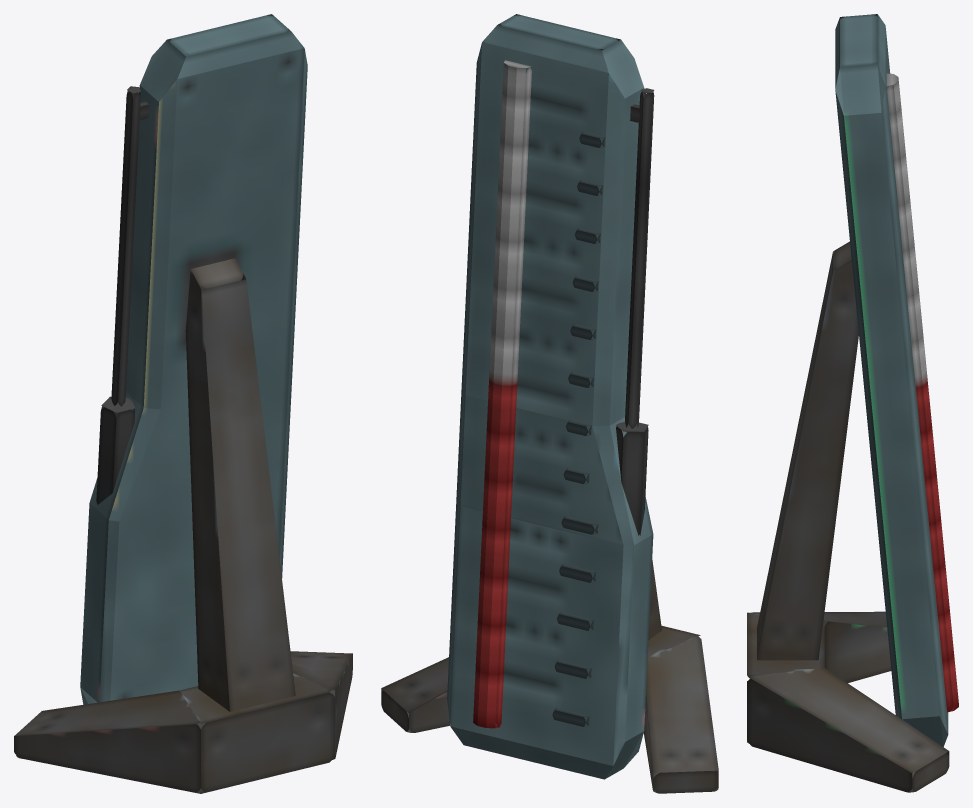
Rendered from thermometer_merc_1.obj.
The picture shows the model from 3 angles, left to right: view 1: azimuth 30°, elevation 25°; view 2: azimuth 150°, elevation 25°; view 3: azimuth 270°, elevation 25°; orthographic projection. The views are drawn at different scales.
Parts seen in each view (by area): view 1: beveled_cuboid; view 2: beveled_cuboid; view 3: beveled_cuboid.
Part boxes in pixels (<box>): beveled_cuboid: <box>14,14,352,793</box>; beveled_cuboid: <box>381,14,718,793</box>; beveled_cuboid: <box>747,14,958,792</box>.
Bounding box in the file's own units: 0.4744 × 0.938 × 0.2624.
